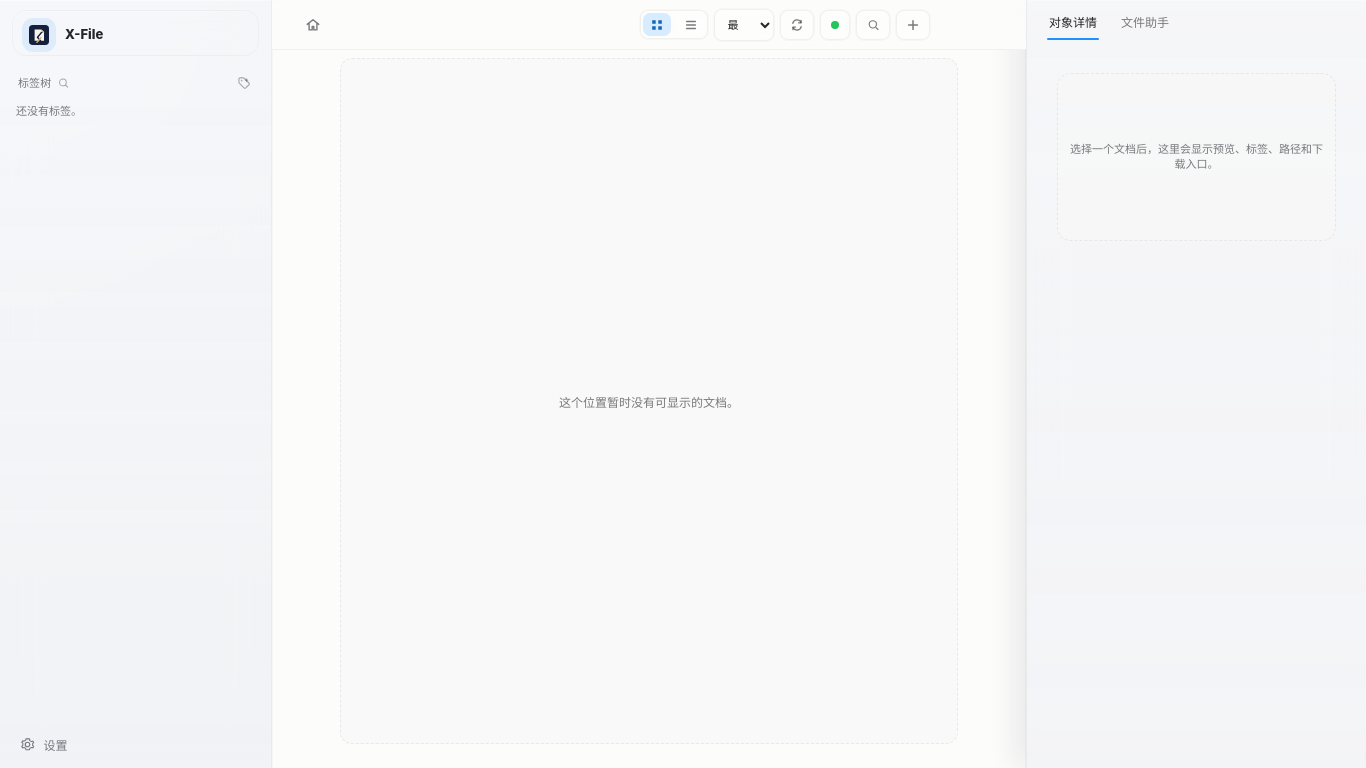
it: 第 9 批：标签管理、智能规则与全量重算任务 › 标签管理模态框点击标签后直接进入编辑，并在详情区显示文档数量
Click the button named "管理标签": coordinates (244, 83) [233,72,255,94]
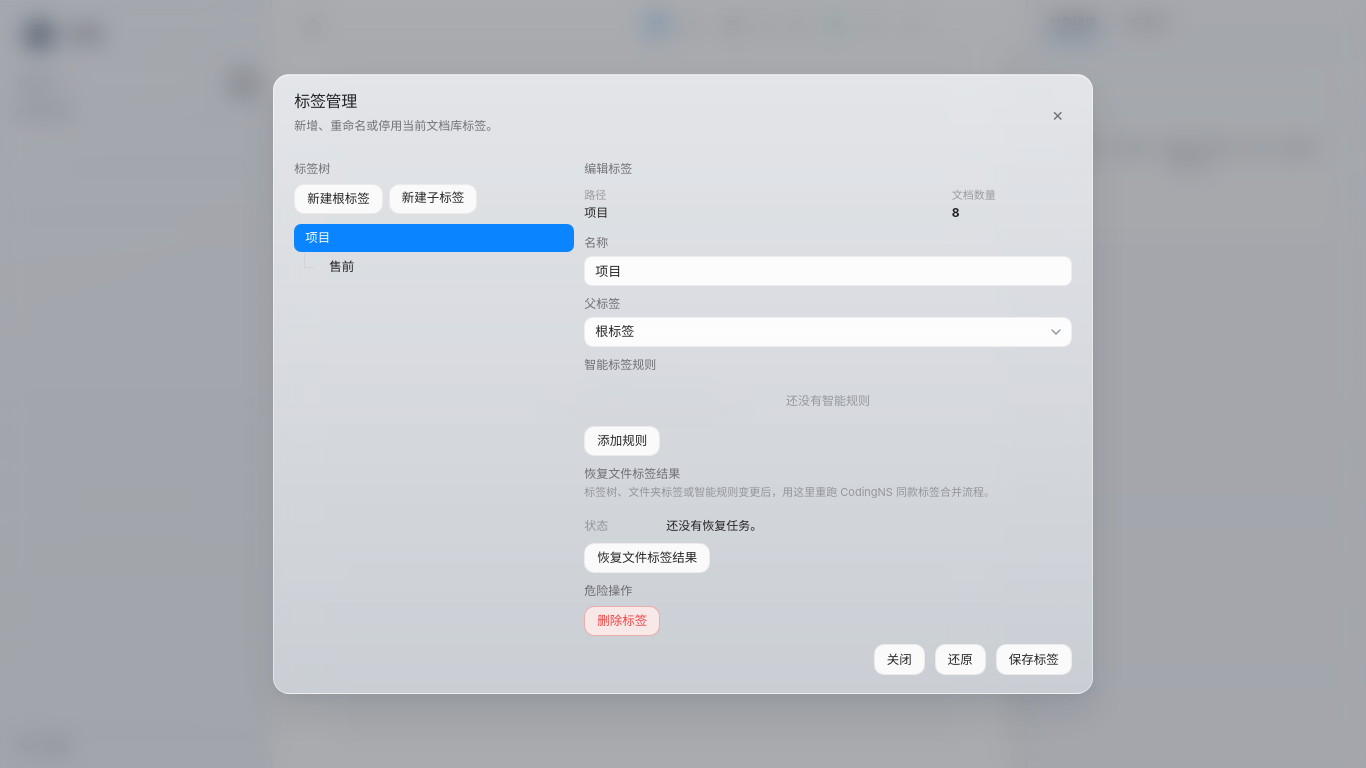
Click the button "售前": coordinates (446, 267) [318,253,574,281]
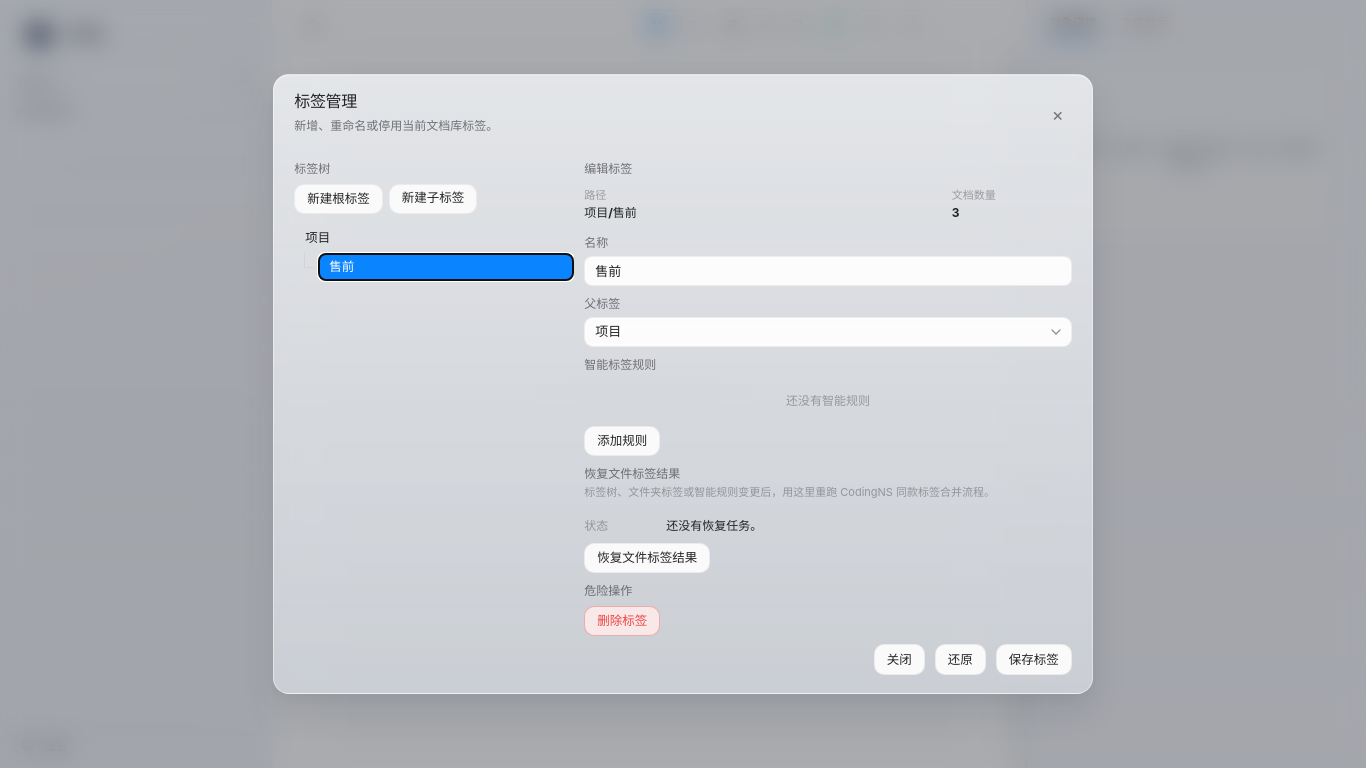
Check: the heading "编辑标签" is shown, box [584,158,632,176]
Check: the text "文档数量" is shown, box [952,188,996,202]
Check: the field named "名称" holds "售前", box [584,256,1072,286]
